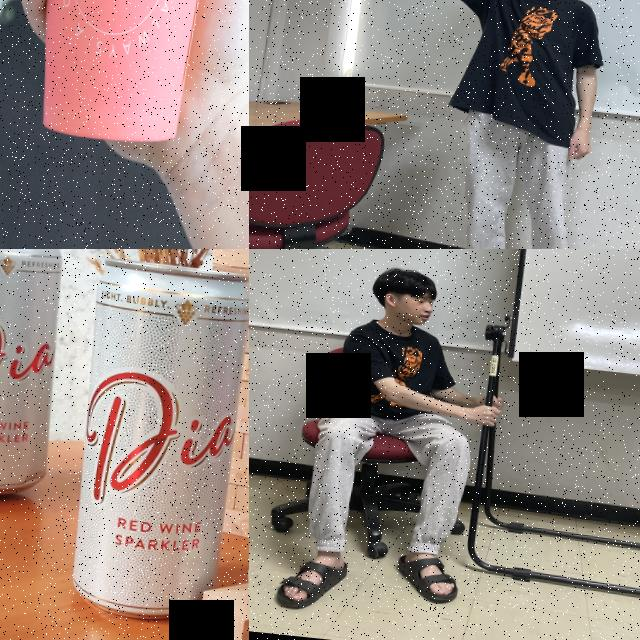can: (63, 254, 249, 627), (0, 249, 73, 504)
cup: (1, 0, 249, 150)
